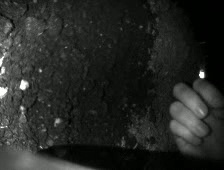corn: (17, 78, 32, 92)
